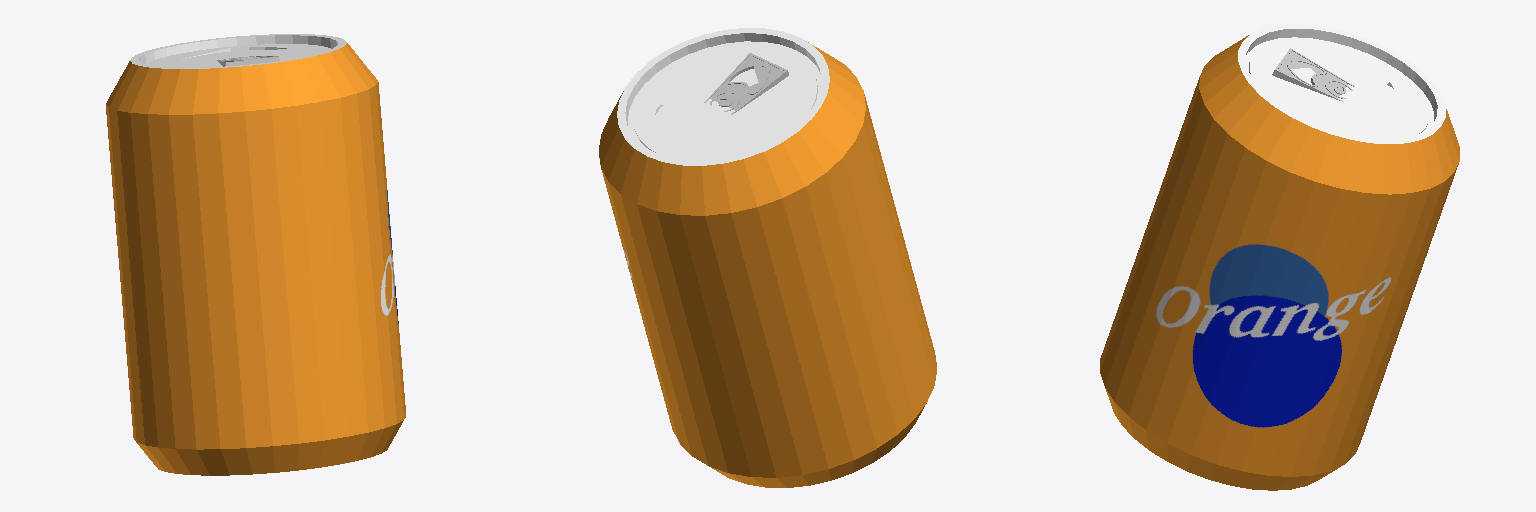
3 views of the same model, side by side, from view 1: azimuth 30°, elevation 25°; view 2: azimuth 150°, elevation 25°; view 3: azimuth 270°, elevation 25° (orthographic).
Parts seen in each view (by area): view 1: Cylinder; view 2: Cylinder, Cube_Cube.001; view 3: Cylinder, Cube_Cube.001.
Part boxes in pixels (x1,y1,x2,y2): Cylinder: (106,34,405,475); Cylinder: (599,28,936,487); Cube_Cube.001: (704,53,788,114); Cylinder: (1100,24,1459,490); Cube_Cube.001: (1272,48,1354,101).
Size of the model in its own units: 2.17 by 3.36 by 2.63.
Materials: 2 (1 with a texture image).